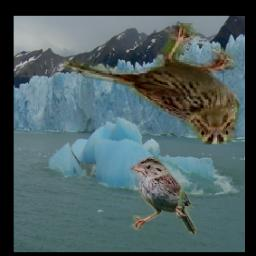Sparrow: (64, 23, 242, 145), (131, 157, 197, 236)
